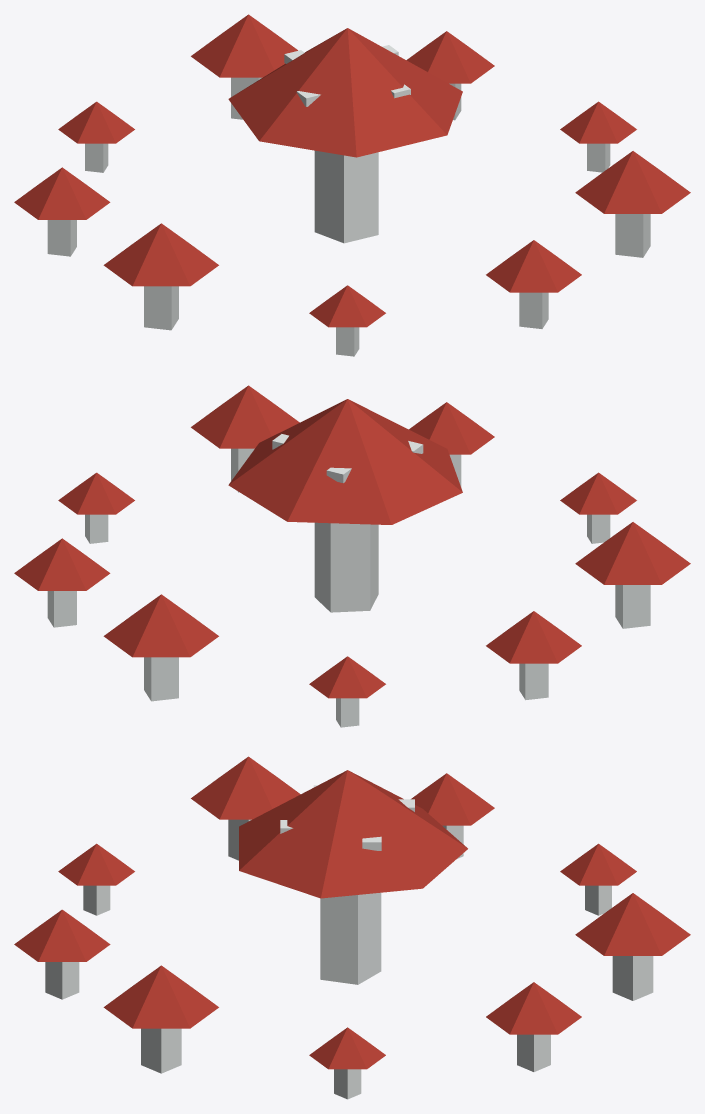
The model's file is mushroom_ring.glb.
3 views of the same model, one above another, from view 1: azimuth 30°, elevation 25°; view 2: azimuth 150°, elevation 25°; view 3: azimuth 270°, elevation 25° (orthographic).
Visible parts, largest first — view 1: cap, stalk, cap5, cap8, cap2, cap7, cap4, cap1, cap6, cap3, cap0, detail_stalk8 (+6 smaller); view 2: cap, stalk, cap2, cap5, cap8, cap4, cap1, cap7, cap3, cap0, cap6, detail_stalk5 (+6 smaller); view 3: cap, stalk, cap8, cap2, cap5, cap1, cap7, cap4, cap0, cap3, cap6, detail_stalk2 (+6 smaller).
Boxes of the visible parts, <box> form: cap: <box>228,28,462,157</box>; stalk: <box>314,150,378,243</box>; cap5: <box>103,223,218,286</box>; cap8: <box>575,151,690,213</box>; cap2: <box>191,14,297,77</box>; cap7: <box>486,240,581,292</box>; cap4: <box>14,167,110,219</box>; cap1: <box>406,31,494,83</box>; cap6: <box>309,285,385,327</box>; cap3: <box>58,101,134,143</box>; cap0: <box>560,101,636,143</box>; detail_stalk8: <box>615,214,650,257</box>; cap: <box>228,399,462,524</box>; stalk: <box>314,522,378,612</box>; cap2: <box>103,594,218,657</box>; cap5: <box>575,522,690,584</box>; cap8: <box>191,385,299,448</box>; cap4: <box>486,611,581,663</box>; cap1: <box>14,538,110,590</box>; cap7: <box>409,402,494,454</box>; cap3: <box>309,656,385,698</box>; cap0: <box>58,472,134,514</box>; cap6: <box>560,472,636,514</box>; detail_stalk5: <box>615,585,650,628</box>; cap: <box>239,770,467,898</box>; stalk: <box>320,892,381,984</box>; cap8: <box>103,965,218,1028</box>; cap2: <box>575,893,690,955</box>; cap5: <box>191,756,300,819</box>; cap1: <box>486,982,581,1034</box>; cap7: <box>14,909,110,961</box>; cap4: <box>411,773,494,825</box>; cap0: <box>309,1027,385,1069</box>; cap3: <box>560,843,636,885</box>; cap6: <box>58,843,134,885</box>; detail_stalk2: <box>612,956,653,1000</box>.
Bounding box in the file's own units: 1.34 × 0.46 × 1.4.
